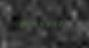eight: (17, 20, 23, 28)
four: (38, 20, 44, 28)
nine: (45, 19, 51, 27)
one: (31, 20, 37, 28), (52, 19, 58, 27)
seven: (66, 19, 72, 27)
two: (24, 20, 30, 28), (59, 19, 65, 27)
